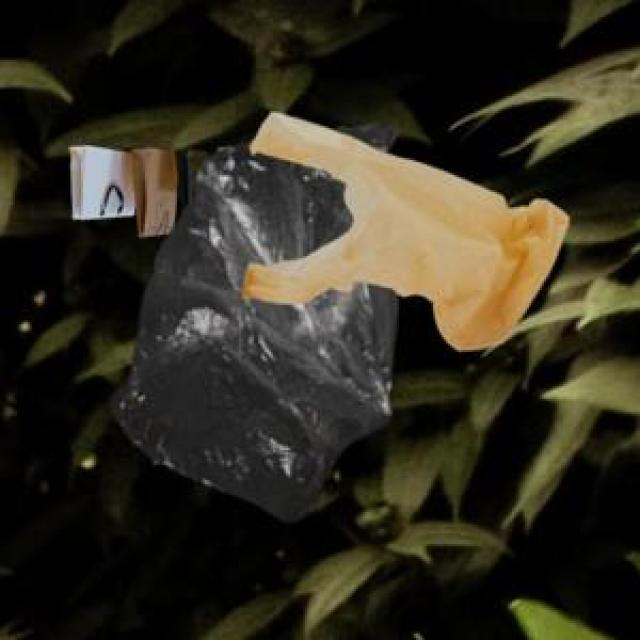paper: (67, 143, 203, 233)
